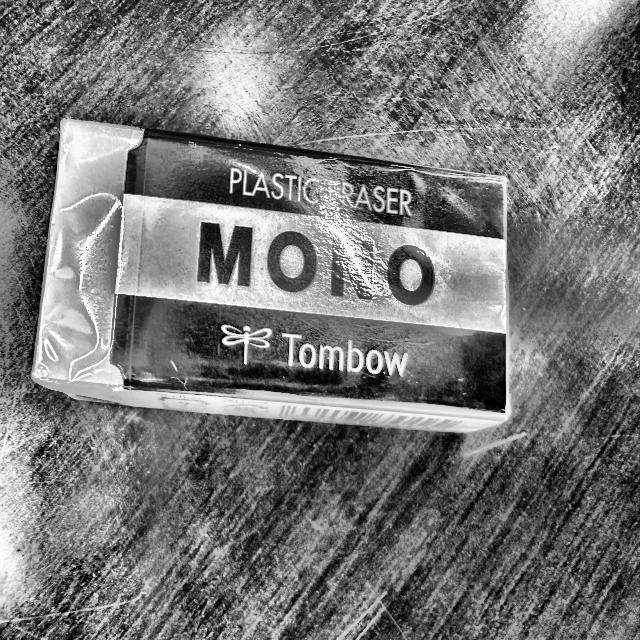eraser: (27, 112, 513, 449)
